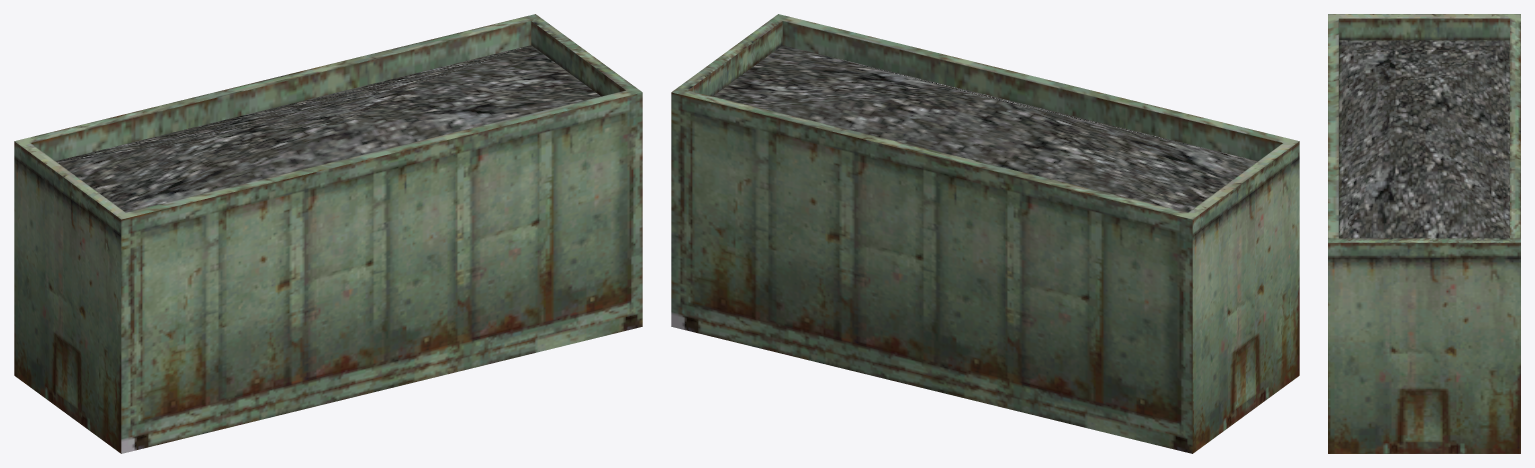
The model's file is Fbig1.FBX.
3 views of the same model, side by side, from view 1: azimuth 30°, elevation 25°; view 2: azimuth 150°, elevation 25°; view 3: azimuth 270°, elevation 25° (orthographic). The views are drawn at different scales.
Visible parts, largest first — view 1: Fbig1; view 2: Fbig1; view 3: Fbig1.
Boxes of the visible parts, <box> form: Fbig1: <box>14,14,642,453</box>; Fbig1: <box>671,14,1299,453</box>; Fbig1: <box>1328,14,1520,453</box>.
Bounding box in the file's own units: 810 × 354 × 288.
